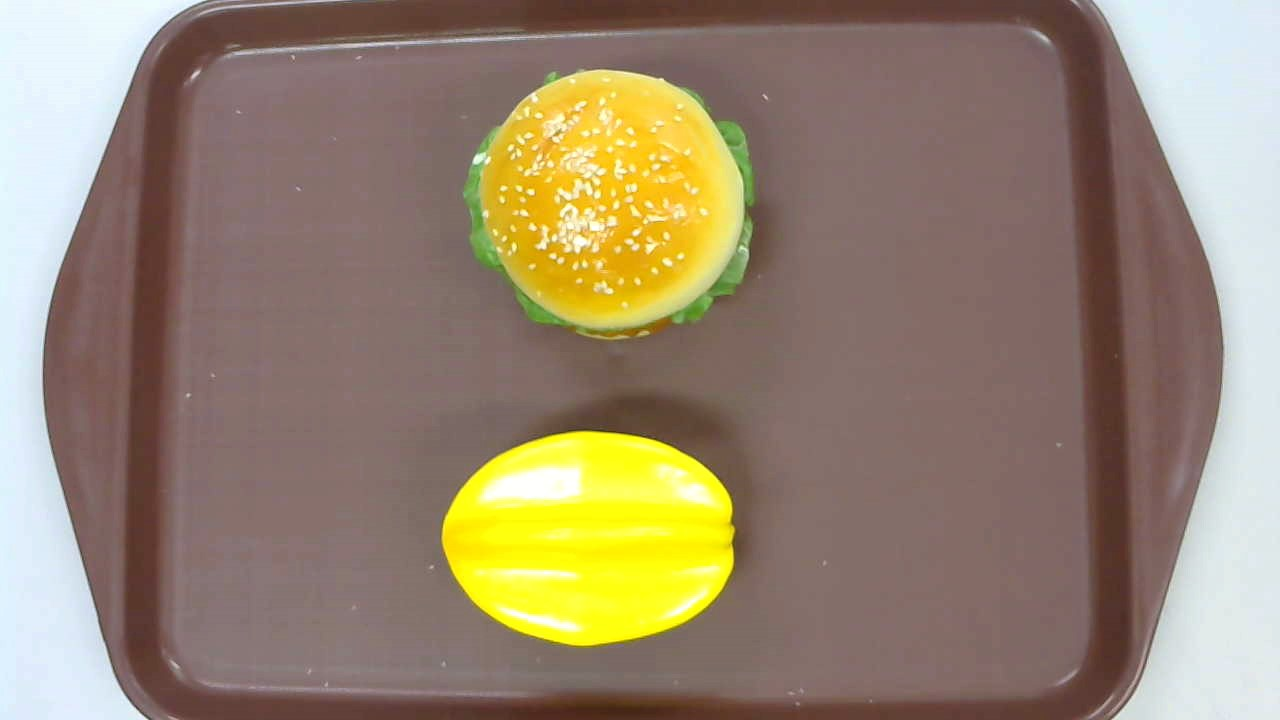hamburger: (460, 70, 758, 341)
star fruit: (441, 429, 736, 648)
